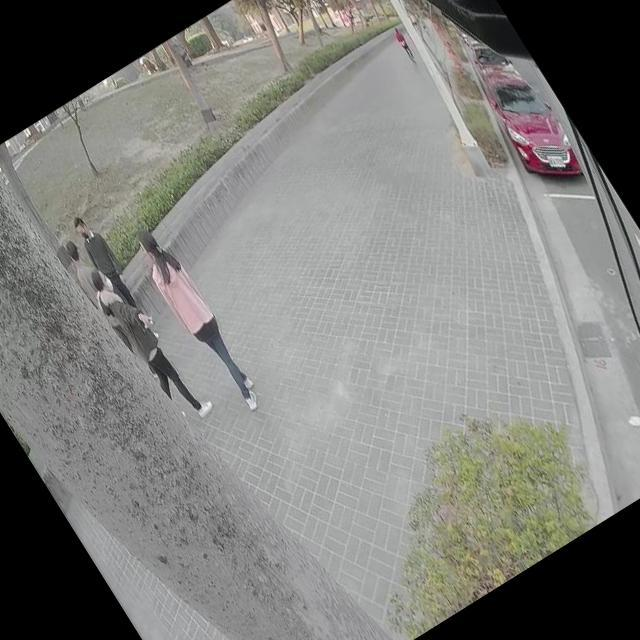person: (125, 220, 266, 418), (84, 253, 214, 429), (68, 210, 138, 304), (58, 239, 107, 302)
